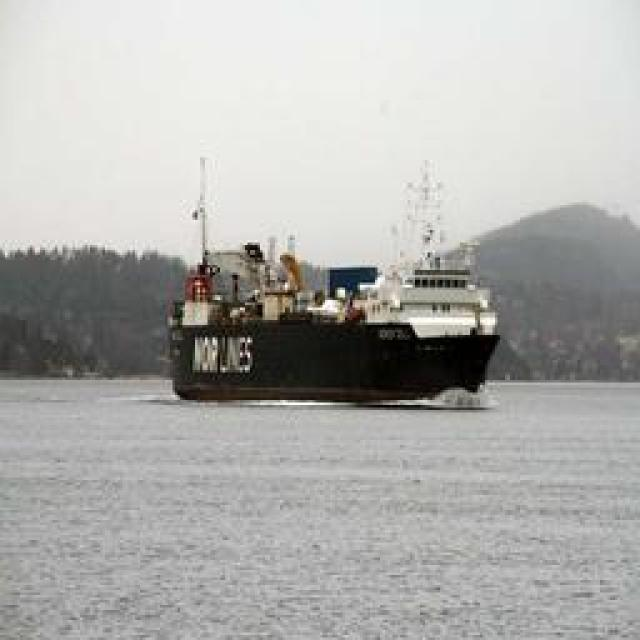CIV_Ship: (162, 145, 500, 403)
